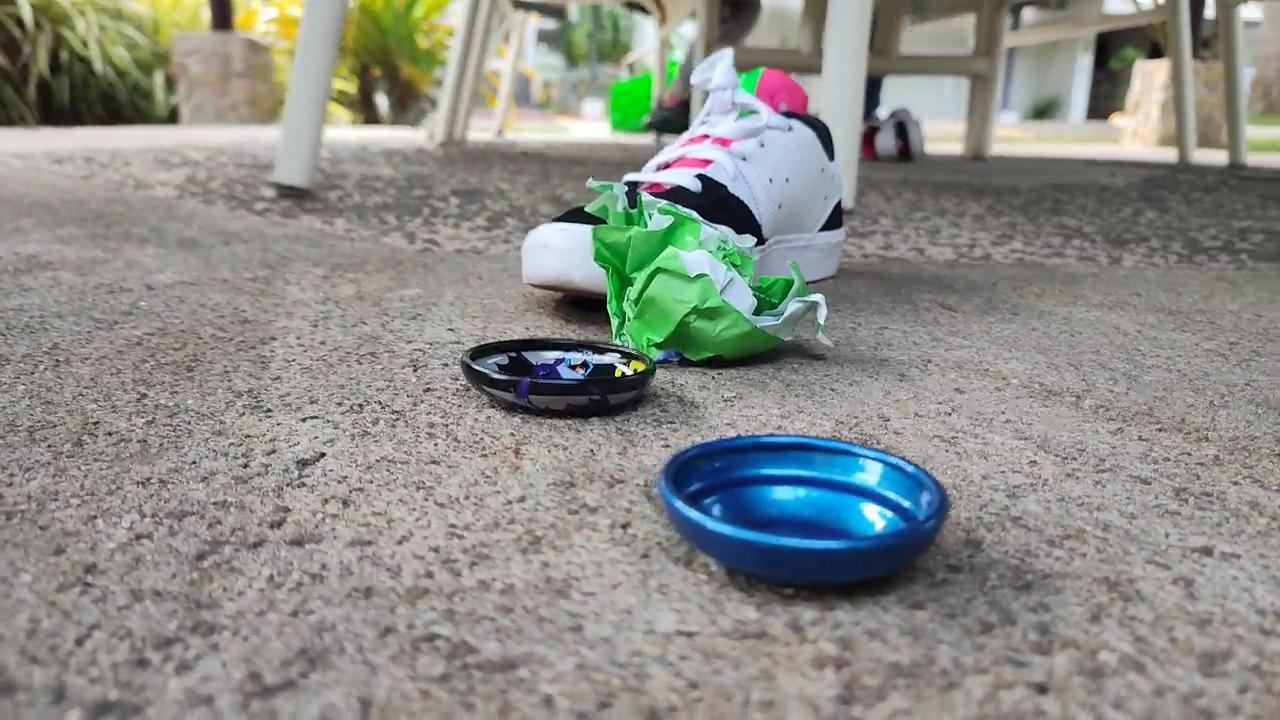Paper: (571, 154, 857, 382)
